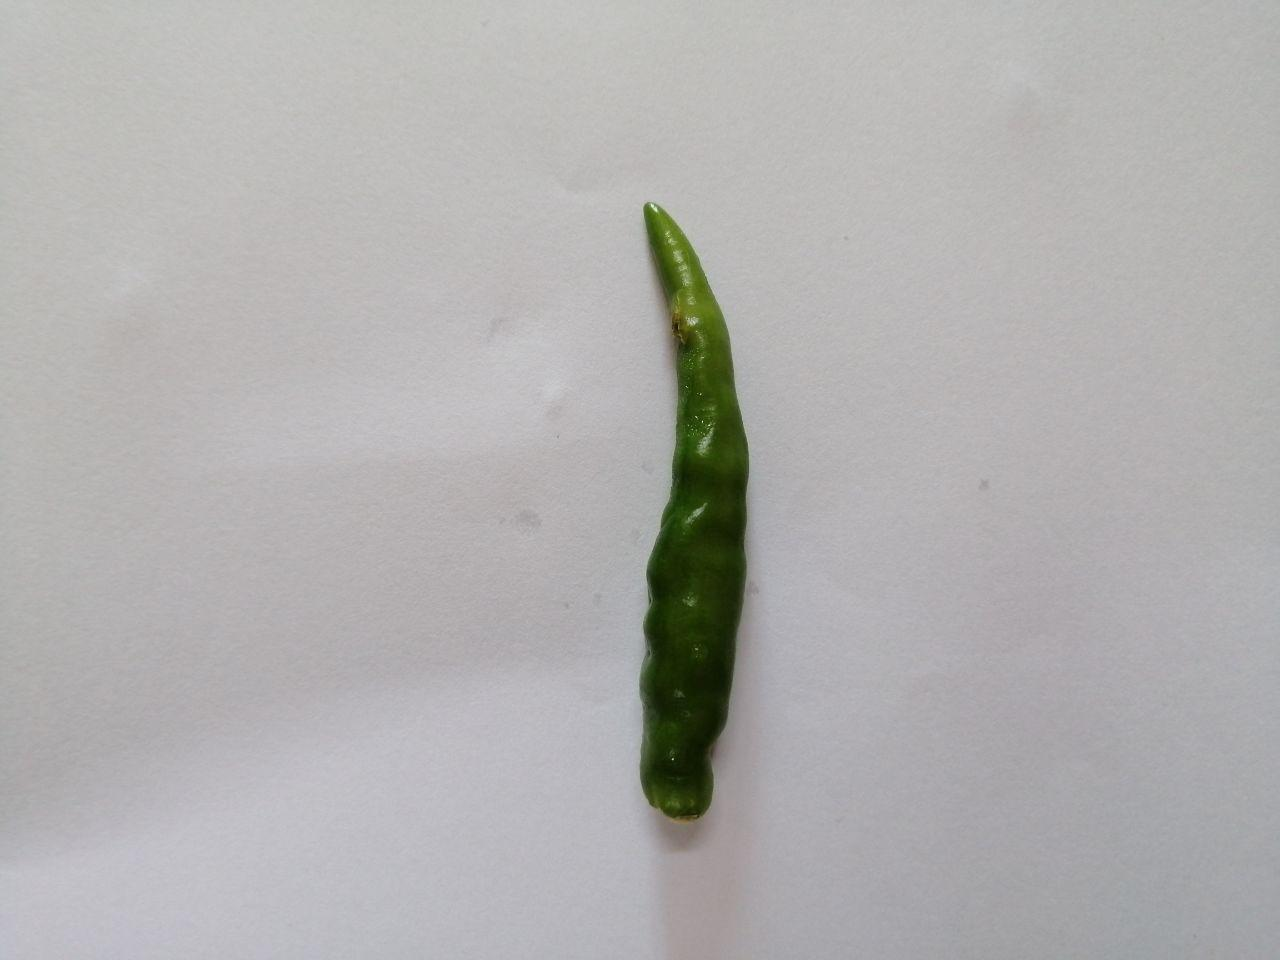lada hijau: (588, 177, 788, 856)
